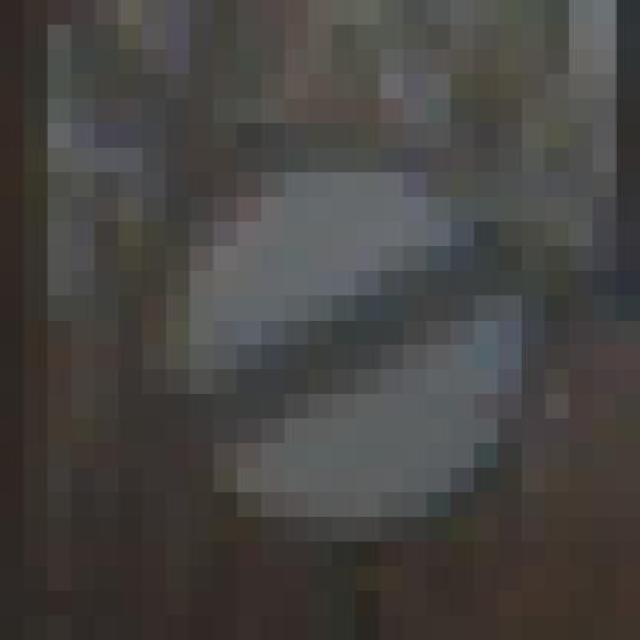End of all speed and passing limits: (118, 123, 570, 566)
